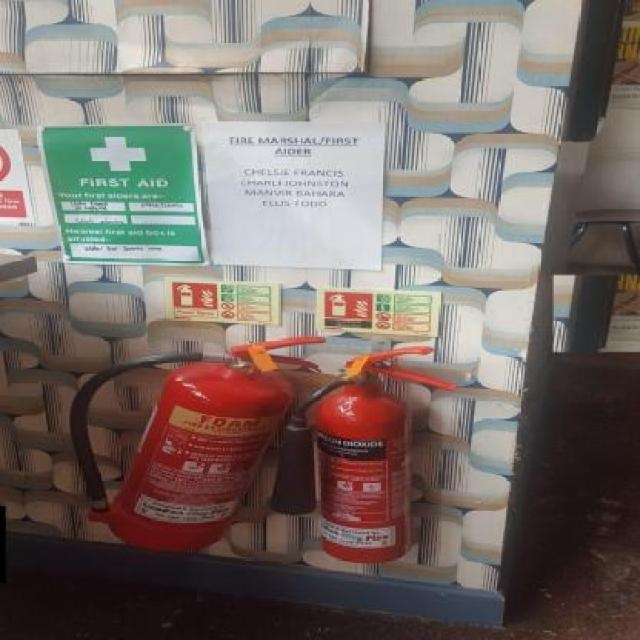fire extinguisher: (73, 336, 327, 552), (272, 346, 456, 562)
